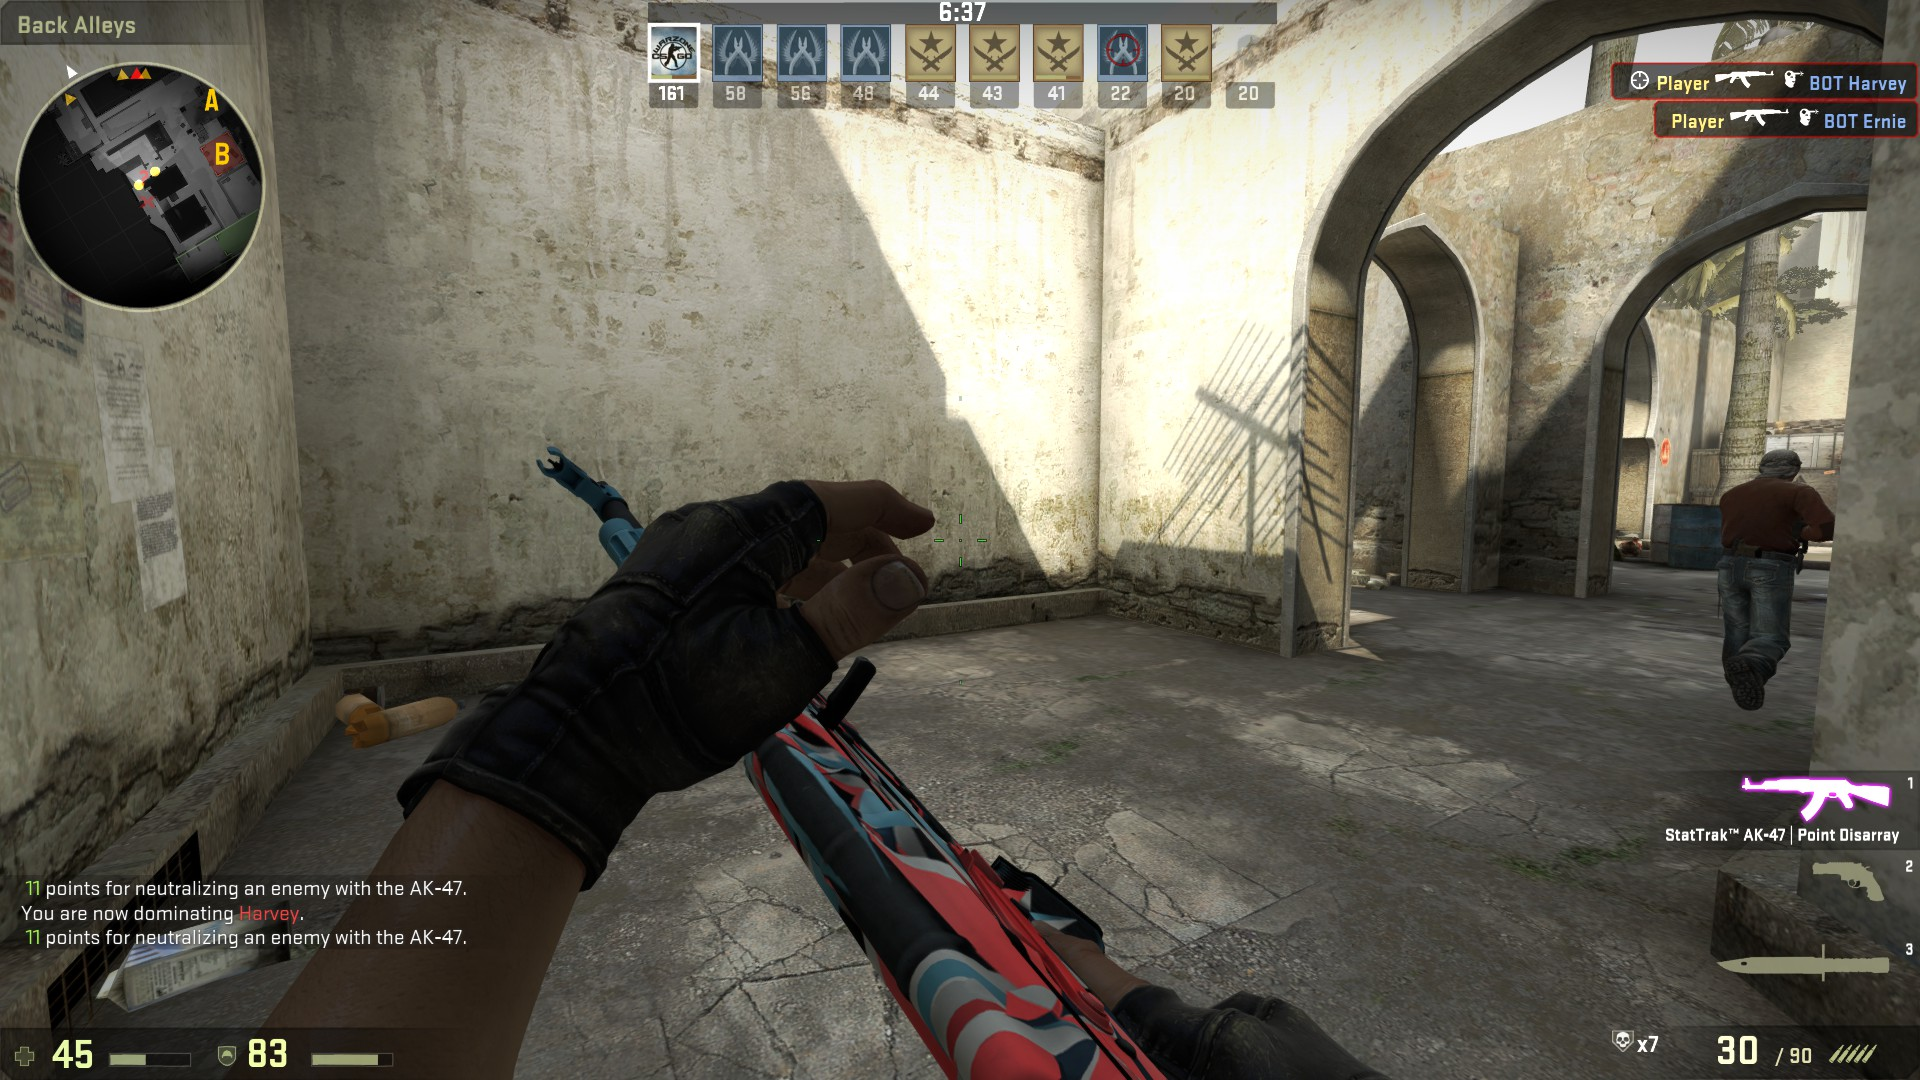t: (1706, 446, 1826, 705)
th: (1753, 446, 1811, 489)
